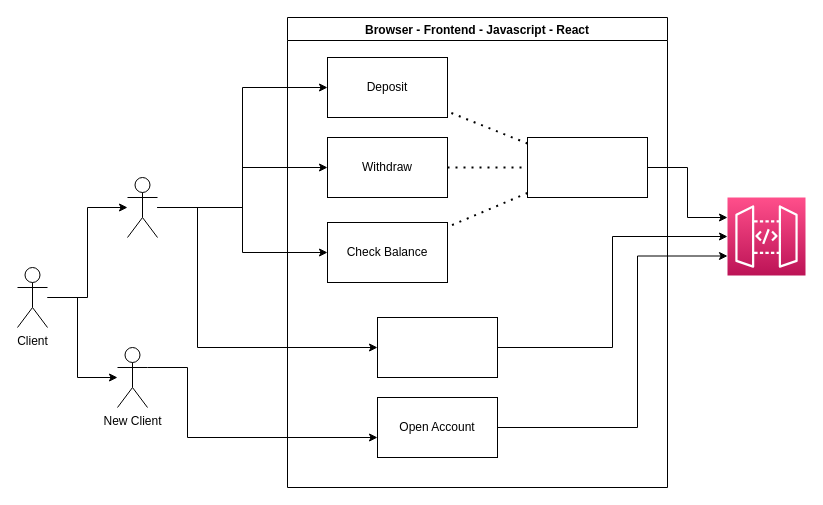
Some shapes in this 823 by 505 pixel diagram are drawn without their labels. Here are the shapes that lost their labels. From the top down, the centre of each, then its label:
the point at 587,167: Transaction
the point at 142,207: Registered Client
the point at 766,236: API
the point at 437,347: Log In
